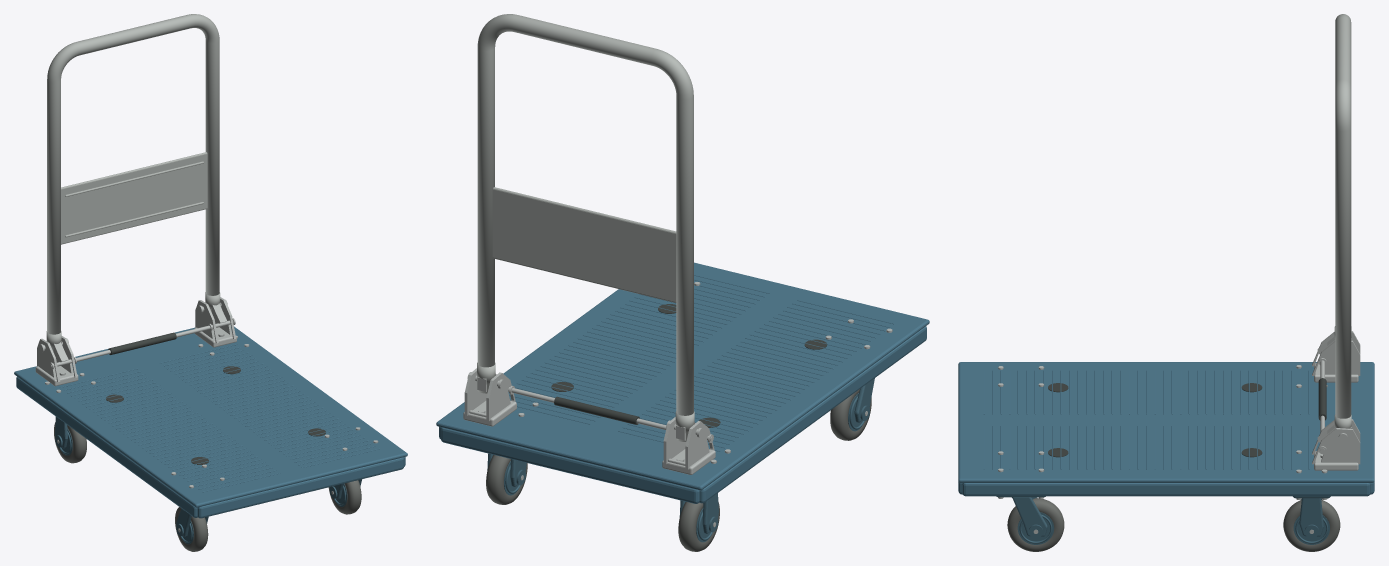
File: folding_platform_handcart.glb
The picture shows the model from 3 angles, left to right: view 1: azimuth 30°, elevation 25°; view 2: azimuth 150°, elevation 25°; view 3: azimuth 270°, elevation 25°; orthographic projection. The views are drawn at different scales.
Parts seen in each view (by area): view 1: Deck load bearing top skin, Continuous folding U handle, Handle sheet cross brace, swivel_caster_-1 wheel rubber tire, fixed_caster_-1 wheel rubber tire, swivel_caster_1 wheel rubber tire, Stationary open slot cheek -1 -0.02, Stationary open slot cheek 1 -0.02, Release bar central foot sleeve, Foot operated transverse release bar; view 2: Deck load bearing top skin, Continuous folding U handle, Handle sheet cross brace, fixed_caster_-1 wheel rubber tire, fixed_caster_1 wheel rubber tire, swivel_caster_-1 wheel rubber tire, Stationary open slot cheek 1 -0.02, Stationary open slot cheek -1 -0.02, Release bar central foot sleeve, Stationary open slot cheek 1 0.02; view 3: Deck load bearing top skin, Continuous folding U handle, swivel_caster_1 wheel rubber tire, fixed_caster_1 wheel rubber tire, Stationary open slot cheek 1 0.02, swivel_caster_1 supporting fork cheek 1, fixed_caster_1 supporting fork cheek 1, Stationary open slot cheek -1 0.02.
Part boxes in pixels (x1,y1,x2,y2): Deck load bearing top skin: (14, 324, 407, 518); Continuous folding U handle: (47, 14, 219, 351); Handle sheet cross brace: (61, 152, 207, 244); swivel_caster_-1 wheel rubber tire: (175, 507, 208, 551); fixed_caster_-1 wheel rubber tire: (54, 422, 86, 463); swivel_caster_1 wheel rubber tire: (328, 480, 361, 514); Stationary open slot cheek -1 -0.02: (37, 338, 60, 381); Stationary open slot cheek 1 -0.02: (195, 300, 218, 343); Release bar central foot sleeve: (108, 332, 176, 354); Foot operated transverse release bar: (49, 320, 233, 367); Deck load bearing top skin: (436, 262, 929, 503); Continuous folding U handle: (477, 14, 693, 441); Handle sheet cross brace: (492, 187, 676, 302); fixed_caster_-1 wheel rubber tire: (678, 502, 719, 551); fixed_caster_1 wheel rubber tire: (486, 455, 527, 504); swivel_caster_-1 wheel rubber tire: (830, 389, 871, 440); Stationary open slot cheek 1 -0.02: (486, 372, 515, 420); Stationary open slot cheek -1 -0.02: (685, 421, 714, 469); Release bar central foot sleeve: (554, 396, 639, 424); Stationary open slot cheek 1 0.02: (464, 368, 487, 415); Deck load bearing top skin: (958, 362, 1374, 496); Continuous folding U handle: (1335, 14, 1351, 418); swivel_caster_1 wheel rubber tire: (1007, 498, 1064, 551); fixed_caster_1 wheel rubber tire: (1283, 500, 1340, 551); Stationary open slot cheek 1 0.02: (1312, 428, 1360, 464); swivel_caster_1 supporting fork cheek 1: (1012, 497, 1047, 536); fixed_caster_1 supporting fork cheek 1: (1299, 498, 1323, 536); Stationary open slot cheek -1 0.02: (1312, 340, 1360, 375).
Size of the model in its own units: 0.49 by 0.89 by 0.73.
